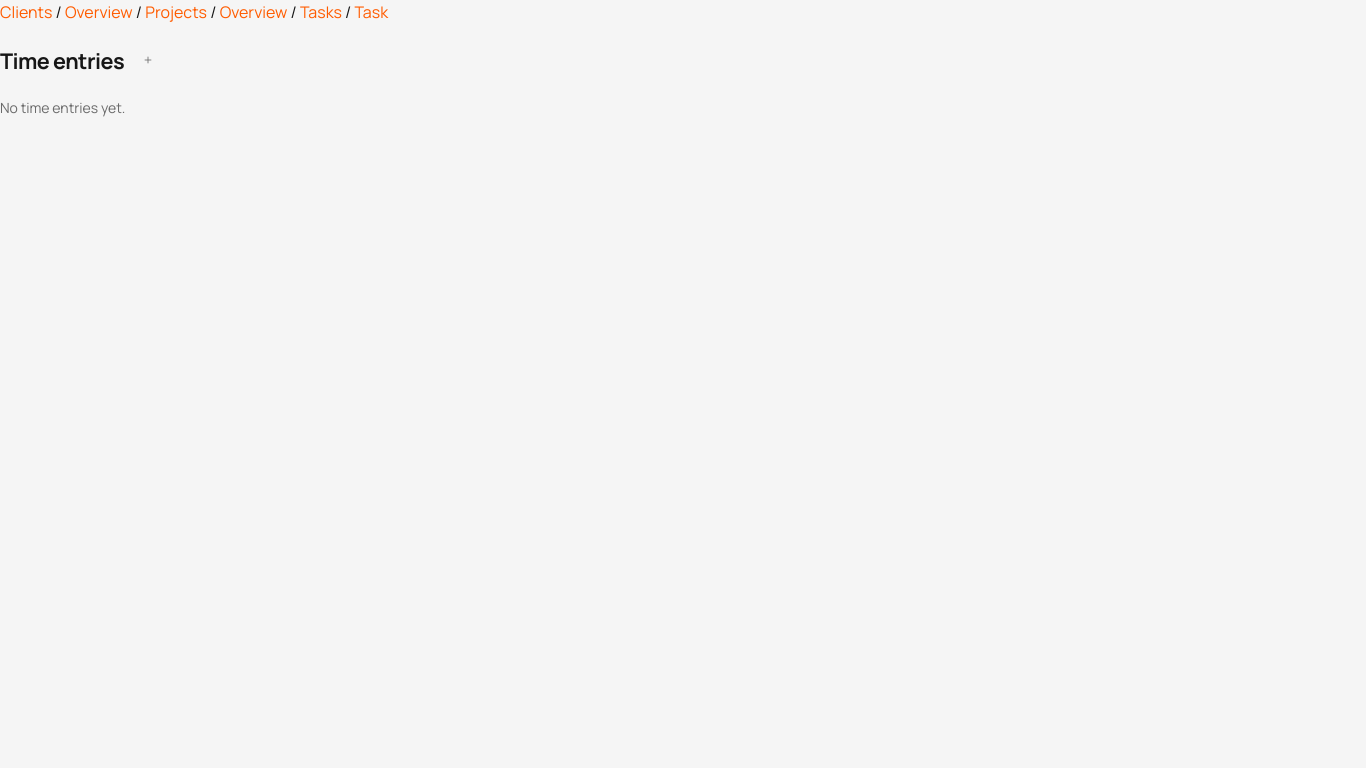
it: CreateTimeEntryForm › creates a time entry and refreshes the list
The width and height of the screenshot is (1366, 768).
Check: the text "No time entries yet." is shown, box [0,98,125,117]
Click the button named "Add time": (148, 60) [132,44,164,76]
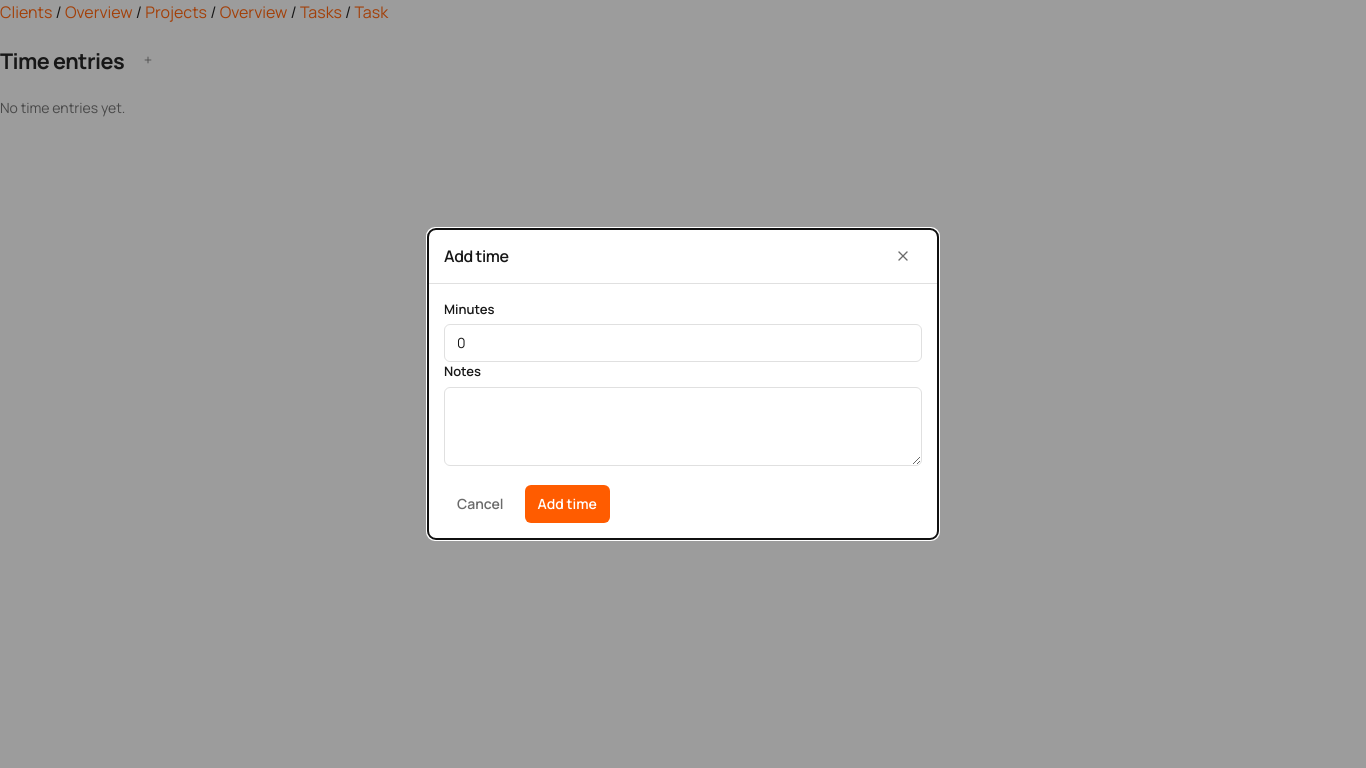
In the number field labelled "Minutes": (683, 344) [444,324,922,362], type "90"
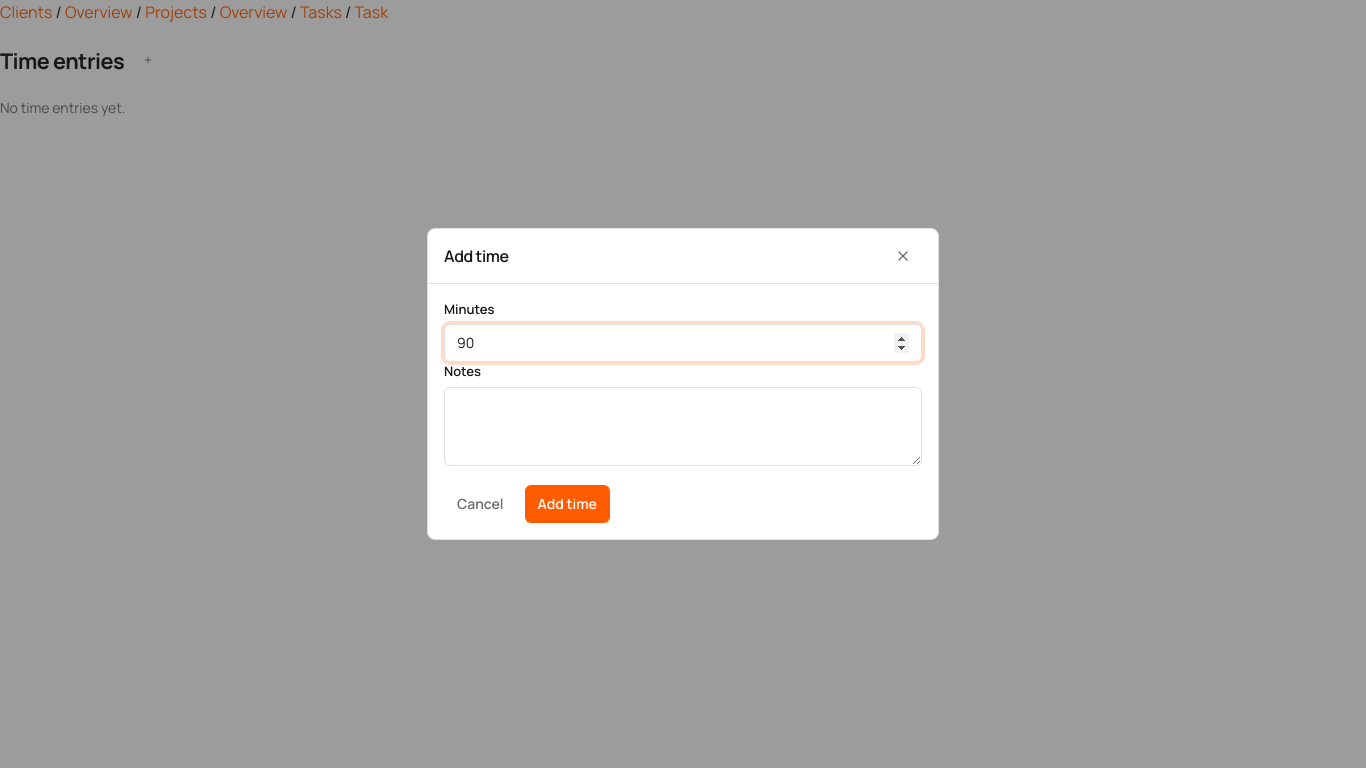
In the text box labelled "Notes": (683, 426) [444,387,922,466], type "OAuth"
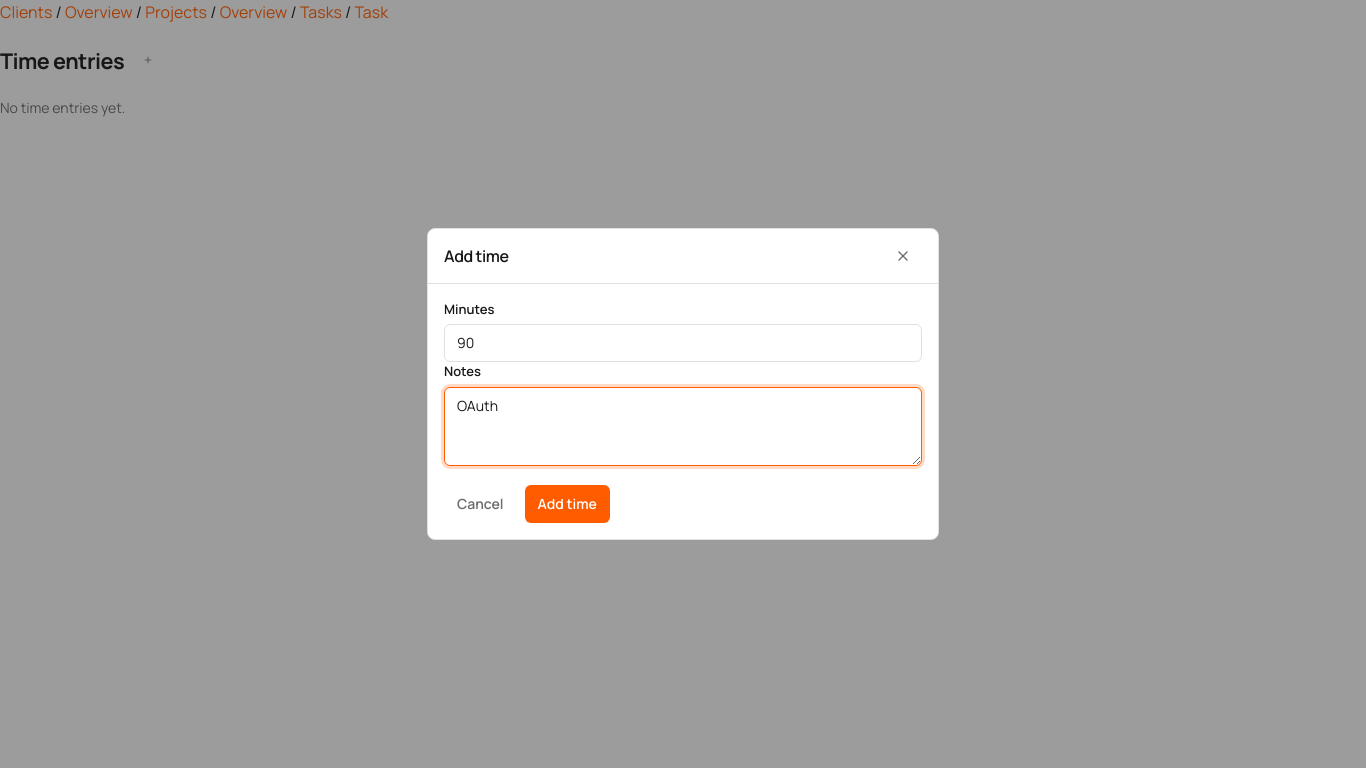
Click the button "Add time": (567, 504) [524,485,610,523]
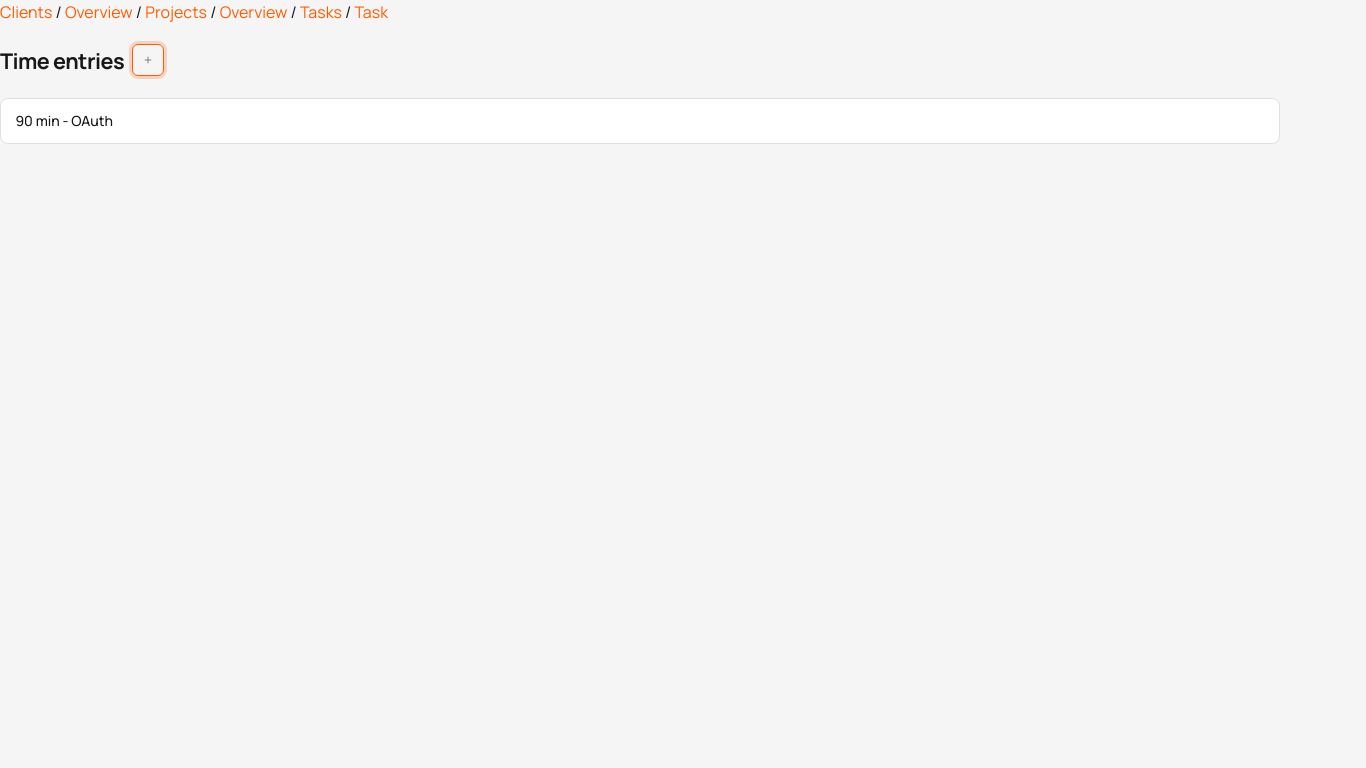
Check: the text "90 min - OAuth" is shown, box [15,111,113,130]
Check: the dialog is gone
